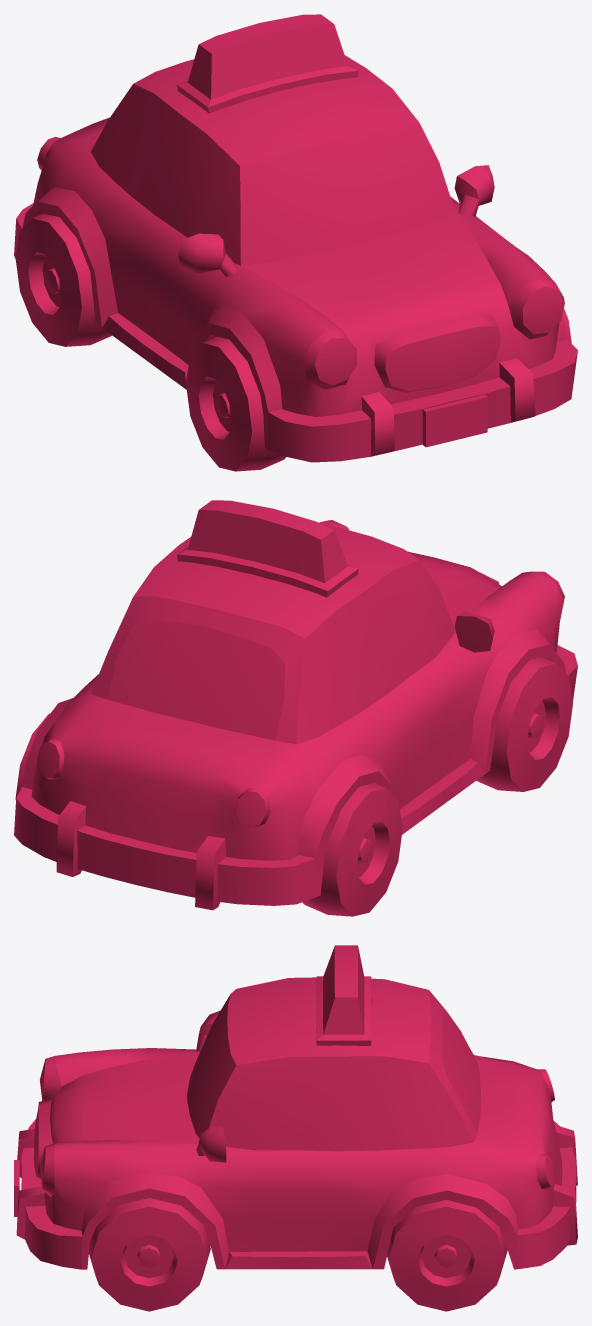
Rendered from Vehicle_Land_Taxi.fbx.
3 renders of one model, top to bottom at view 1: azimuth 30°, elevation 25°; view 2: azimuth 150°, elevation 25°; view 3: azimuth 270°, elevation 25°, orthographic. The views are drawn at different scales.
Parts seen in each view (by area): view 1: Vehicle_Land_Taxi; view 2: Vehicle_Land_Taxi; view 3: Vehicle_Land_Taxi.
Part boxes in pixels (x1,y1,x2,y2): Vehicle_Land_Taxi: (14, 14, 577, 471); Vehicle_Land_Taxi: (14, 500, 577, 916); Vehicle_Land_Taxi: (14, 945, 577, 1311).
Size of the model in its own units: 56.36 by 52.73 by 95.93.
